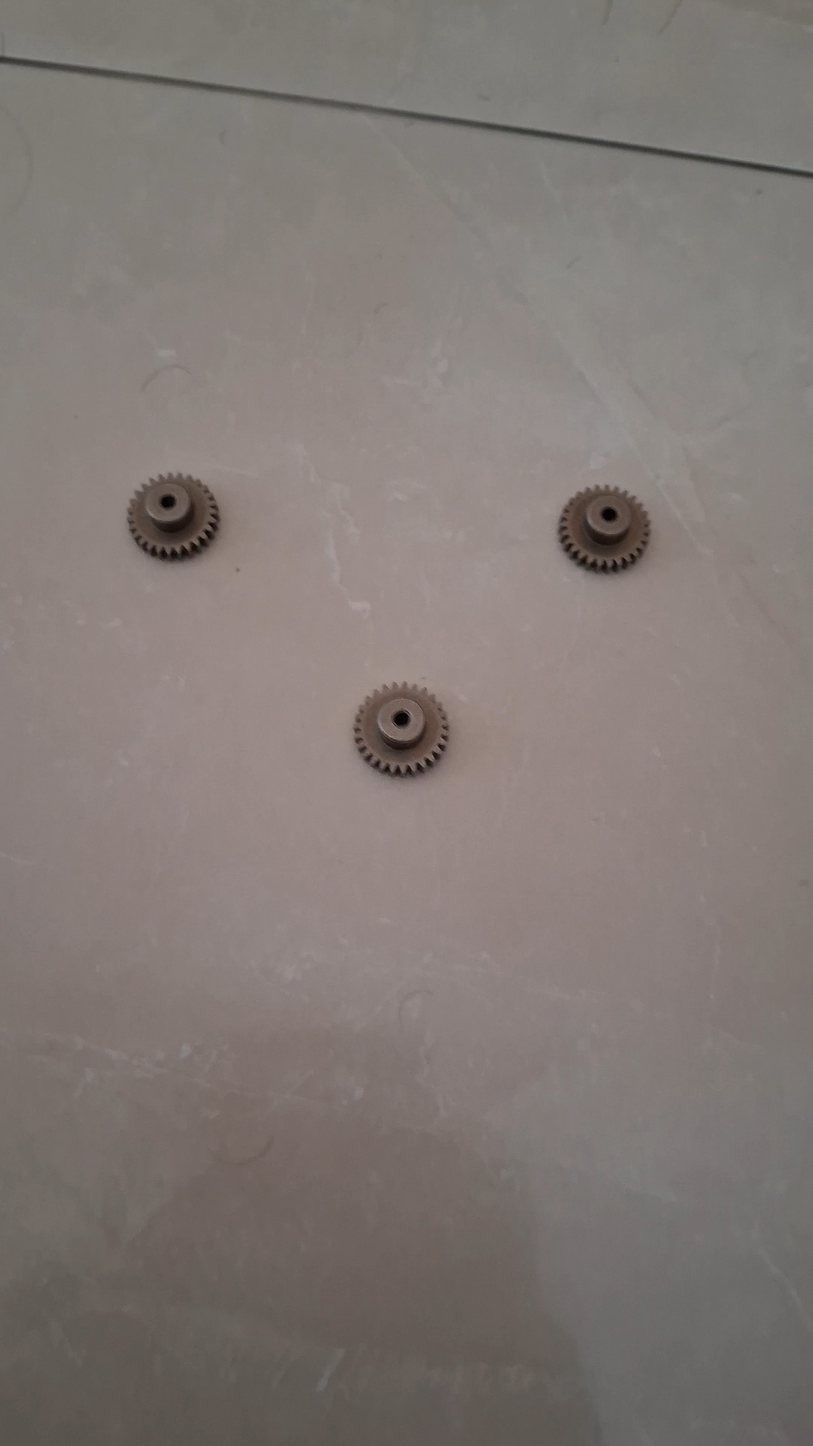spur gear: (354, 683, 449, 775), (128, 474, 219, 559), (559, 488, 650, 572)
